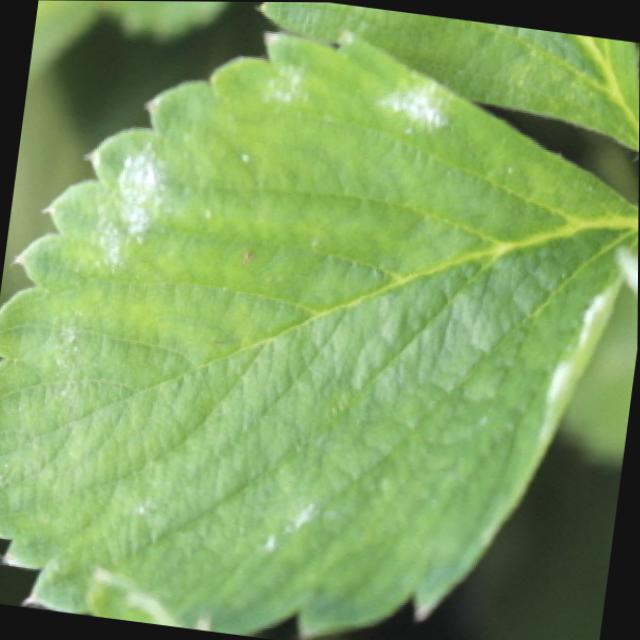Powdery Mildew Leaf: (0, 28, 639, 640)
